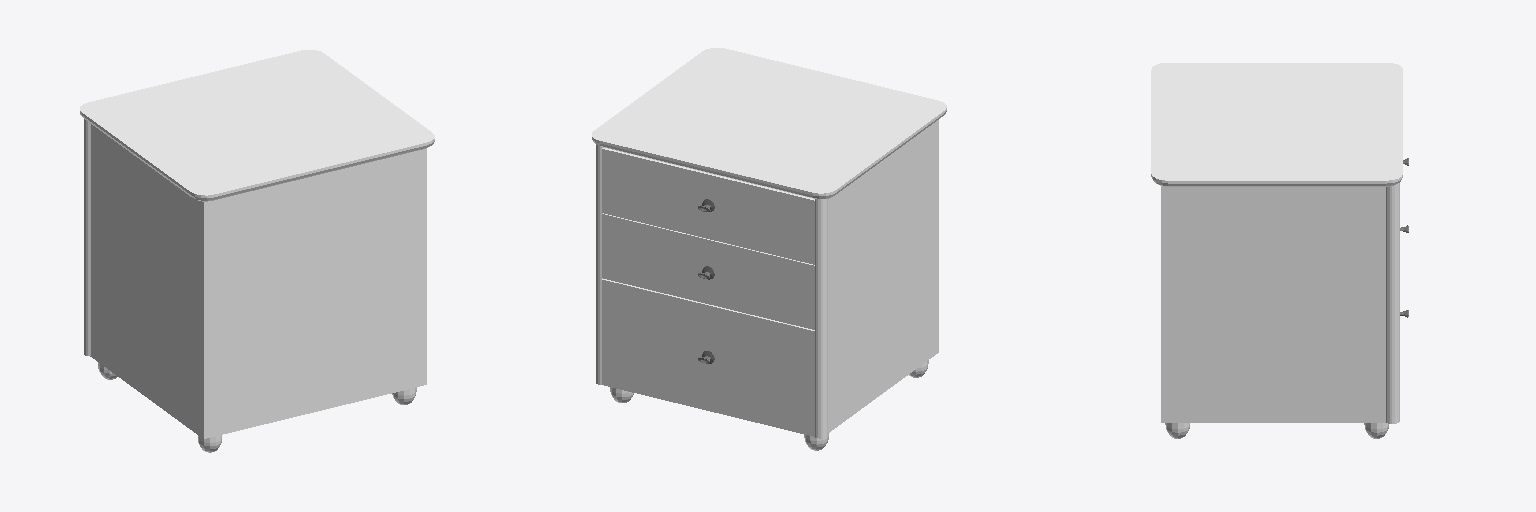
File: commode_nightstand1.obj
The picture shows the model from 3 angles: view 1: azimuth 30°, elevation 25°; view 2: azimuth 150°, elevation 25°; view 3: azimuth 270°, elevation 25°; orthographic projection.
Parts seen in each view (by area): view 1: main; view 2: main; view 3: main.
Boxes of the visible parts, box(x1,y1,x2,y2) form: main: box(80, 50, 434, 452); main: box(592, 48, 946, 450); main: box(1151, 63, 1402, 438).
Size of the model in its own units: 50 by 53 by 45.95.